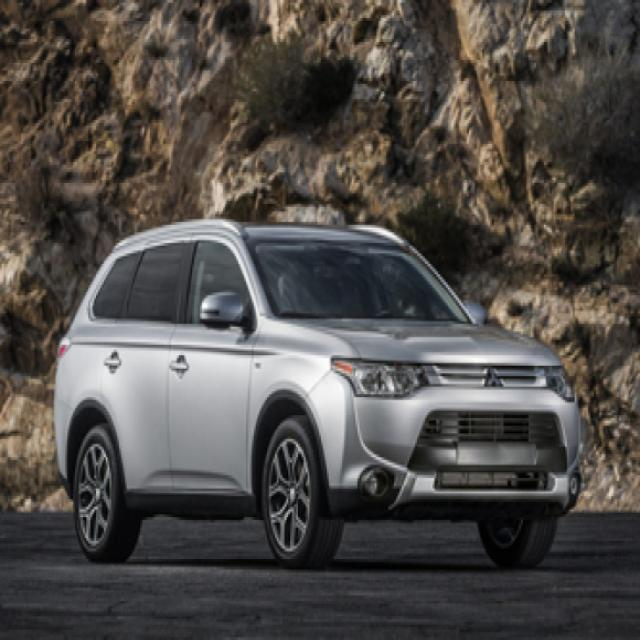light_vehicle: (52, 218, 584, 573)
